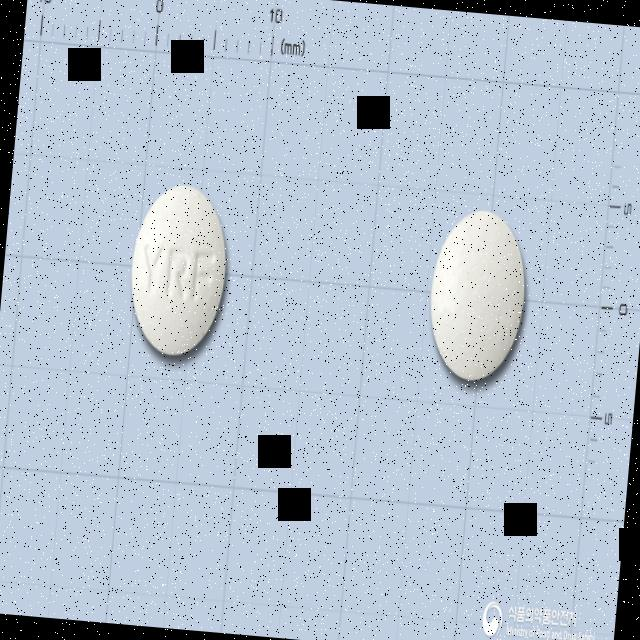Leprosin: (124, 181, 233, 362)
